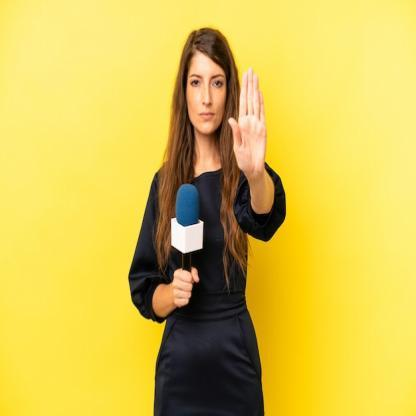stop: (227, 64, 269, 182)
